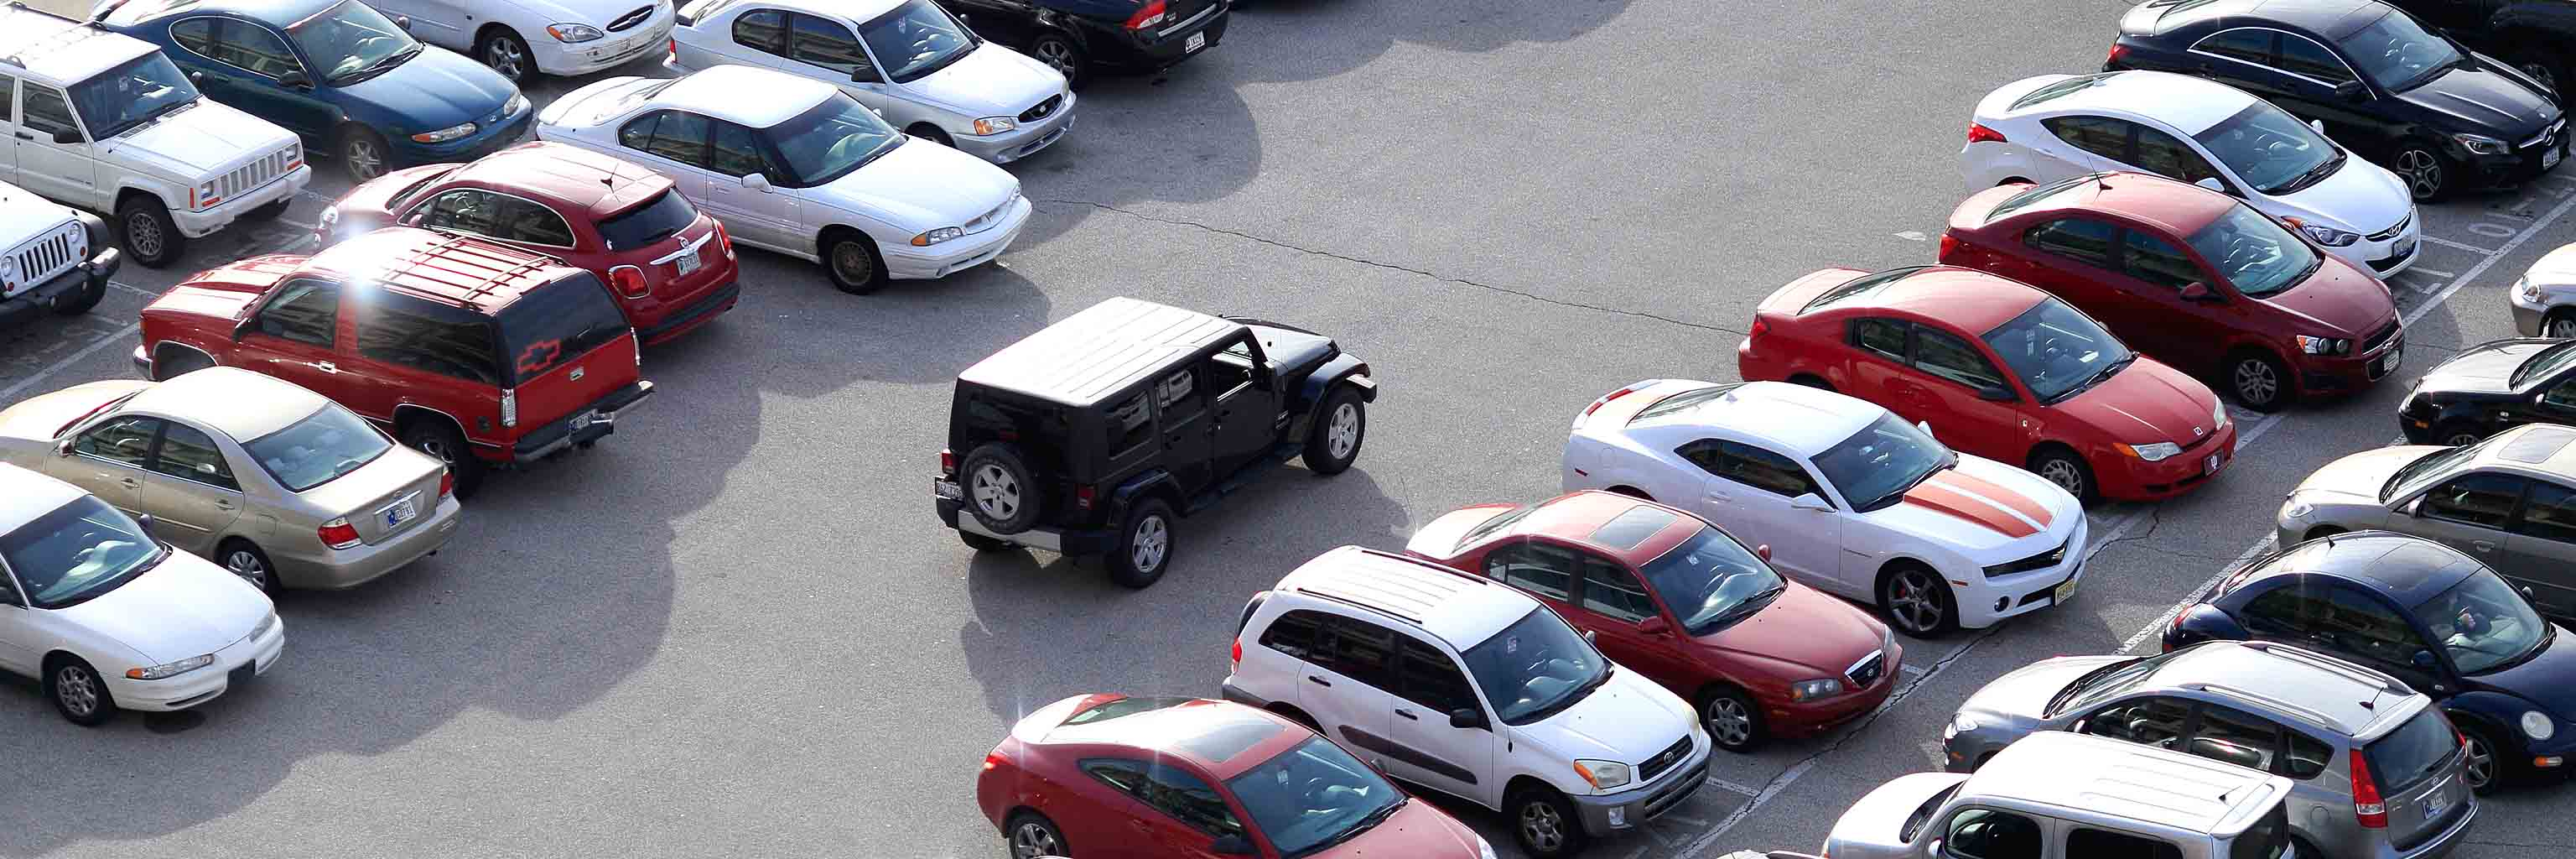car: (1226, 540, 1740, 856), (145, 220, 662, 494), (1566, 373, 2083, 639), (1743, 263, 2246, 519), (1416, 485, 1907, 733), (1955, 631, 2491, 854), (2, 365, 481, 603), (1939, 171, 2402, 417), (1953, 64, 2426, 291), (532, 61, 1017, 278), (2165, 532, 2576, 785), (2104, 3, 2560, 217), (968, 680, 1505, 859), (317, 141, 739, 347), (2, 5, 312, 266), (84, 2, 517, 172), (669, 3, 1078, 169), (1830, 731, 2293, 841), (2280, 416, 2576, 576)
